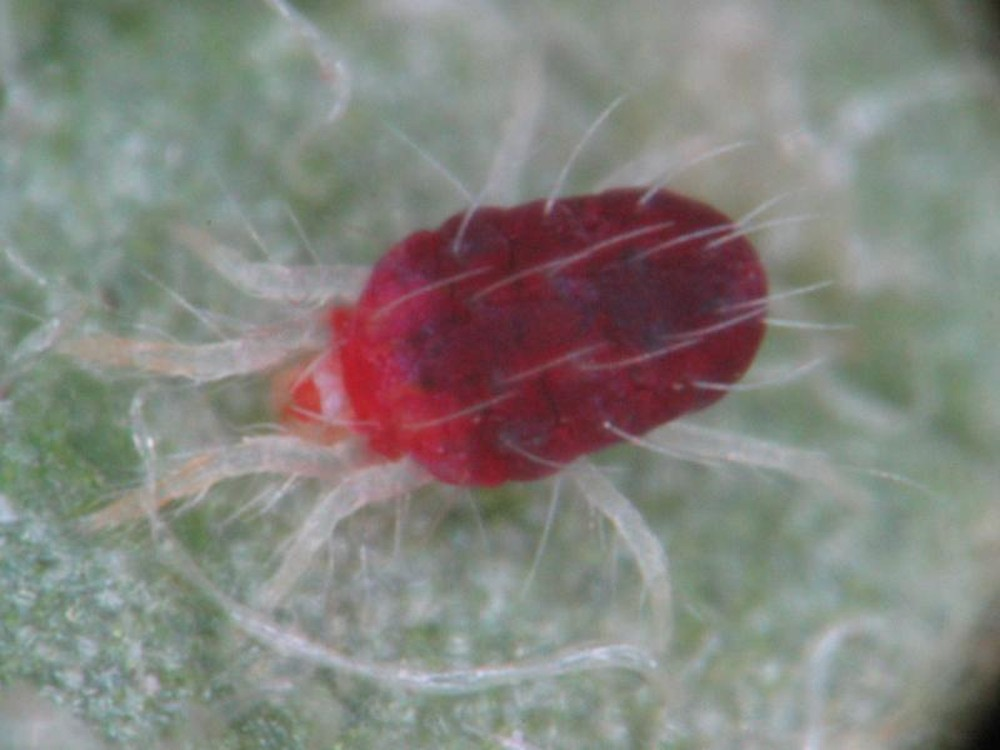Aracnido Rojo: (84, 118, 910, 638)
